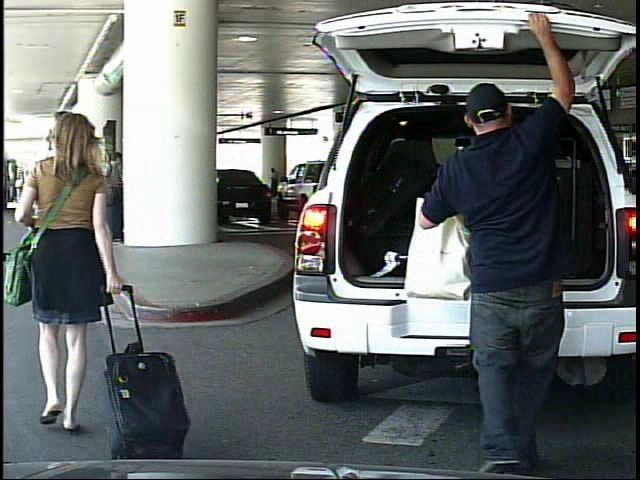person: (408, 13, 594, 480), (23, 110, 149, 440), (271, 165, 280, 197), (14, 173, 24, 198)
